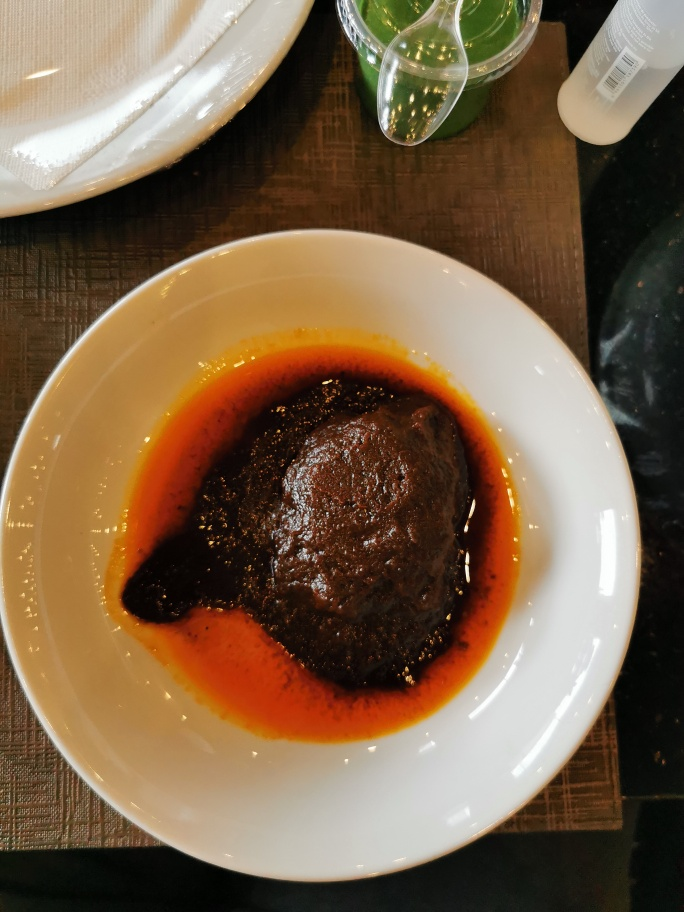rendang: (182, 369, 503, 694)
